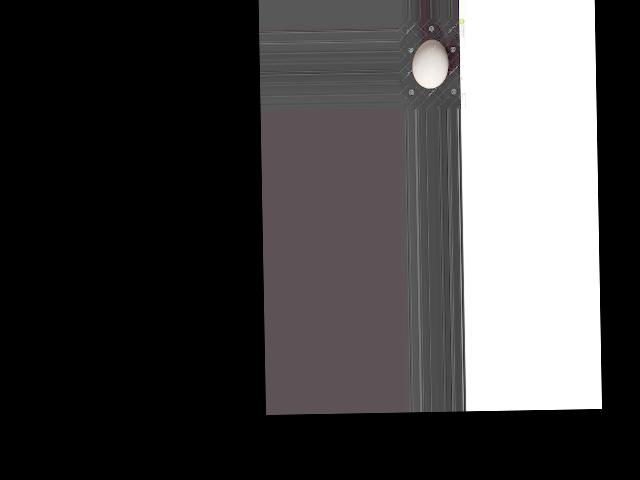egg: (412, 39, 449, 89)
